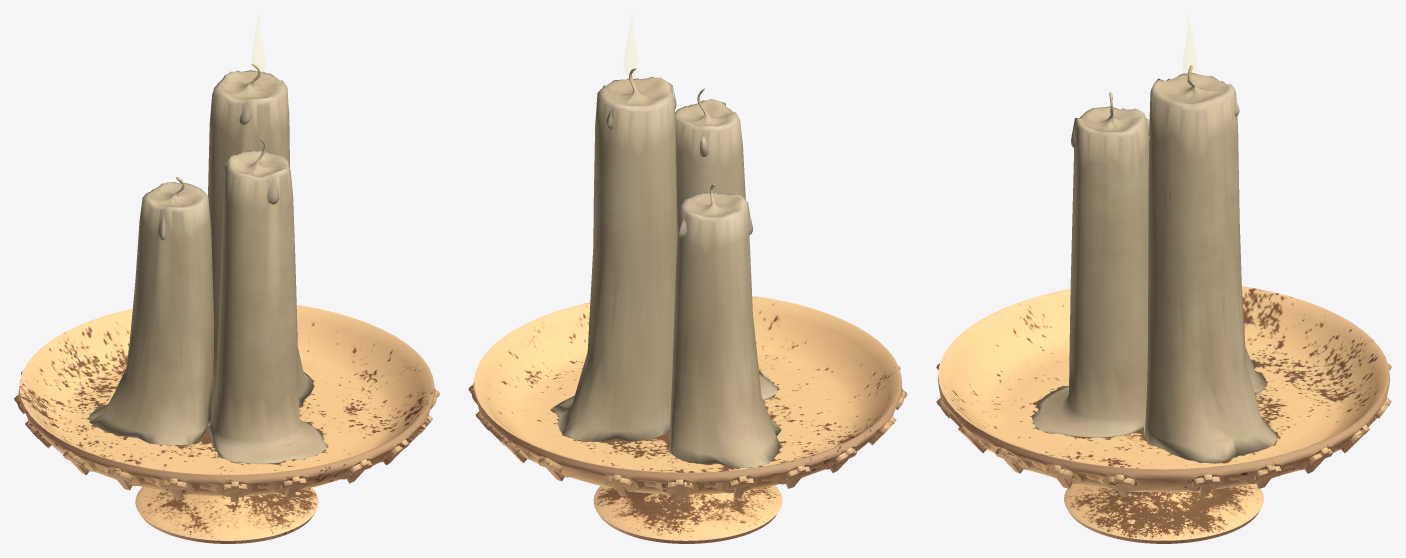
Rendered from candle-holder.glb.
3 renders of one model, left to right at view 1: azimuth 30°, elevation 25°; view 2: azimuth 150°, elevation 25°; view 3: azimuth 270°, elevation 25°, orthographic. The views are drawn at different scales.
Parts seen in each view (by area): view 1: defaultMaterial (×2); view 2: defaultMaterial (×2); view 3: defaultMaterial (×2).
Boxes of the visible parts, <box> form: defaultMaterial (×2): <box>14,63,439,543</box>; defaultMaterial (×2): <box>468,68,907,543</box>; defaultMaterial (×2): <box>936,65,1391,543</box>.
Size of the model in its own units: 91.37 by 114 by 91.97.
3 materials, 3 textured.
